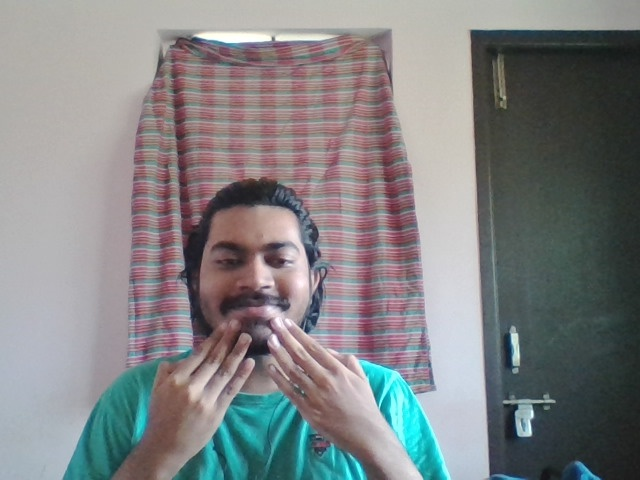ThankYou: (152, 318, 393, 453)
